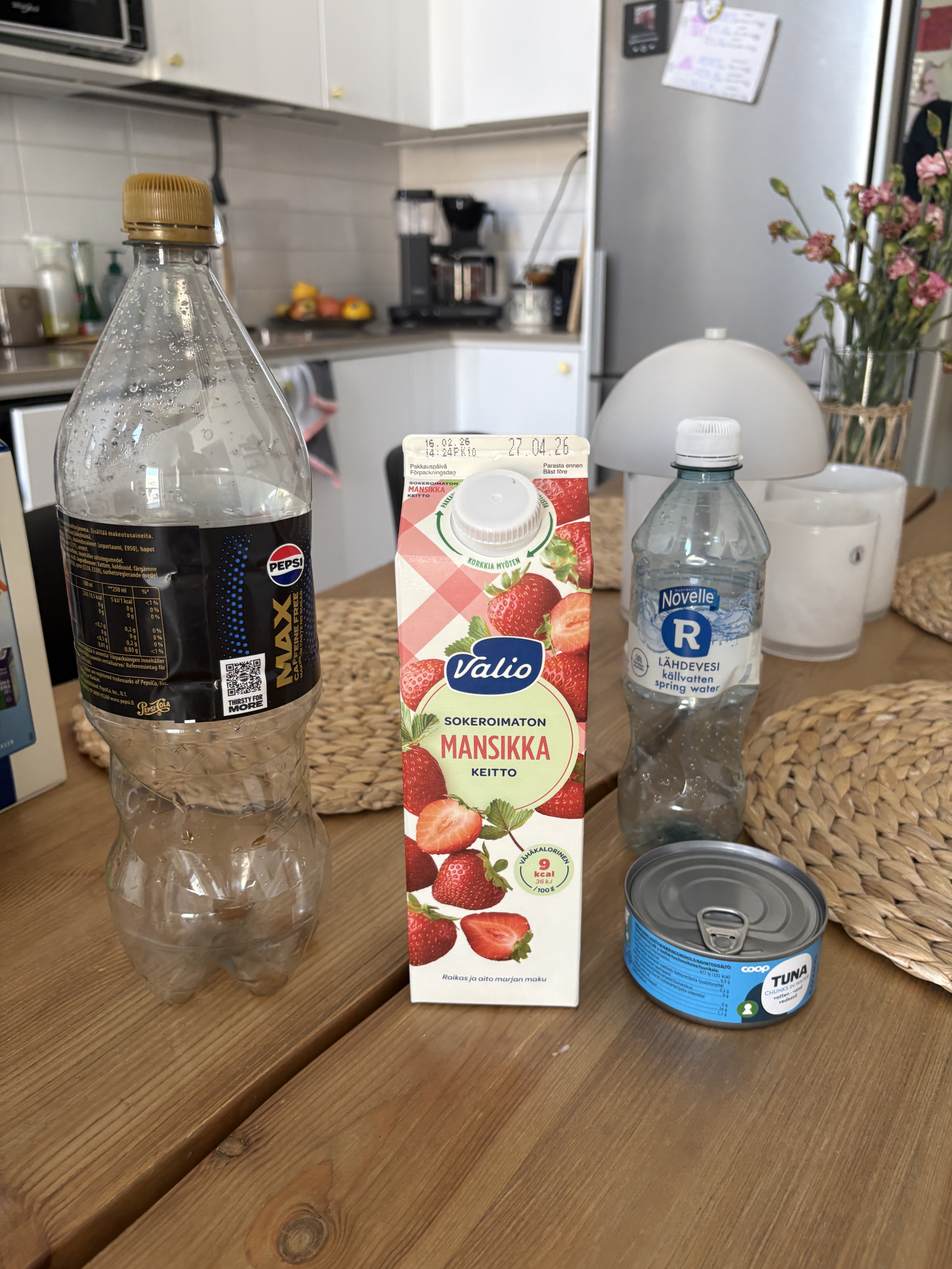Dryckeskartong: (399, 434, 594, 1014)
Konservburk: (624, 857, 834, 1038)
Pantburk: (38, 144, 361, 1001), (640, 413, 788, 848)
